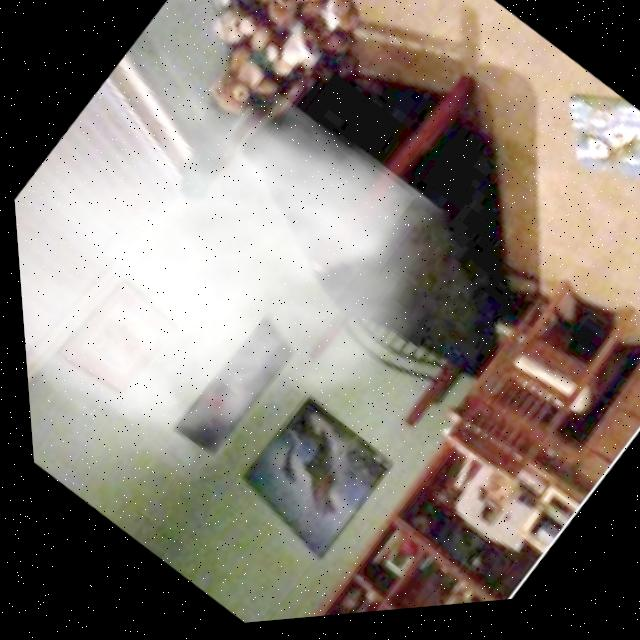Smoke: (11, 3, 489, 557)
